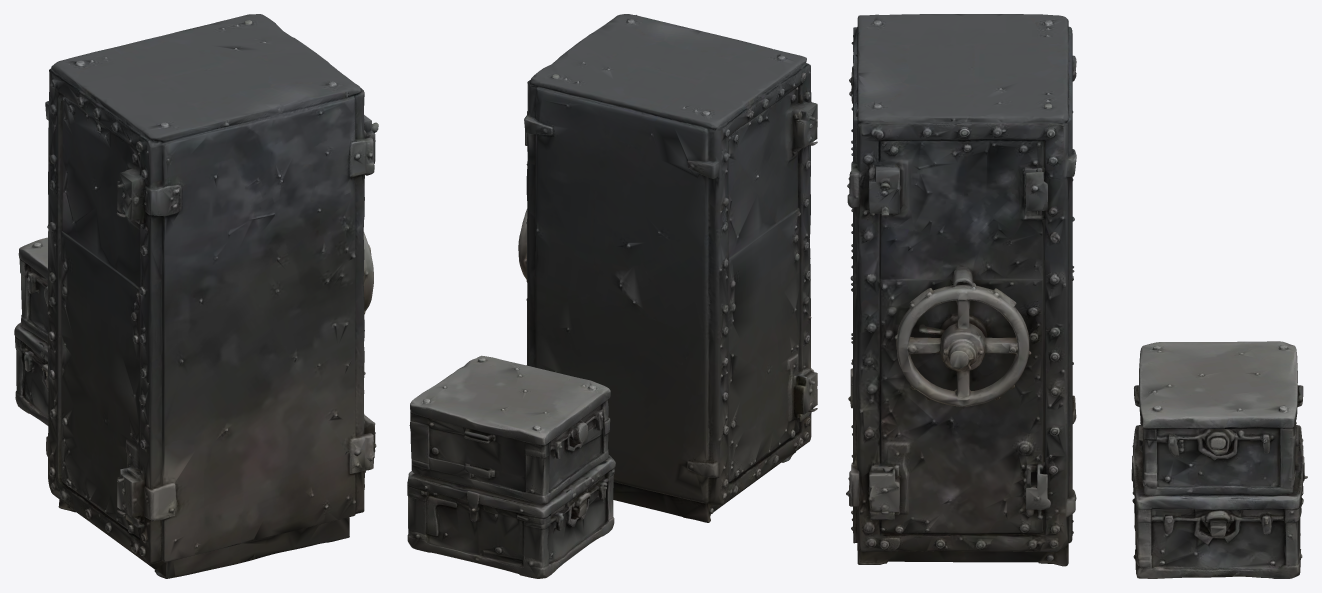
File: vault.glb
3 views of the same model, side by side, from view 1: azimuth 30°, elevation 25°; view 2: azimuth 150°, elevation 25°; view 3: azimuth 270°, elevation 25° (orthographic). The views are drawn at different scales.
Visible parts, largest first — view 1: tripo_node_4fbbcedd-0fe3-4e7b-8199-531765d6fdd0; view 2: tripo_node_4fbbcedd-0fe3-4e7b-8199-531765d6fdd0; view 3: tripo_node_4fbbcedd-0fe3-4e7b-8199-531765d6fdd0.
Boxes of the visible parts, box(x1,y1,x2,y2) form: tripo_node_4fbbcedd-0fe3-4e7b-8199-531765d6fdd0: box(14, 14, 378, 578); tripo_node_4fbbcedd-0fe3-4e7b-8199-531765d6fdd0: box(407, 14, 817, 578); tripo_node_4fbbcedd-0fe3-4e7b-8199-531765d6fdd0: box(846, 14, 1307, 578).
Bounding box in the file's own units: 0.6639 × 0.9998 × 0.9163.
Materials: 1 (1 with a texture image).
